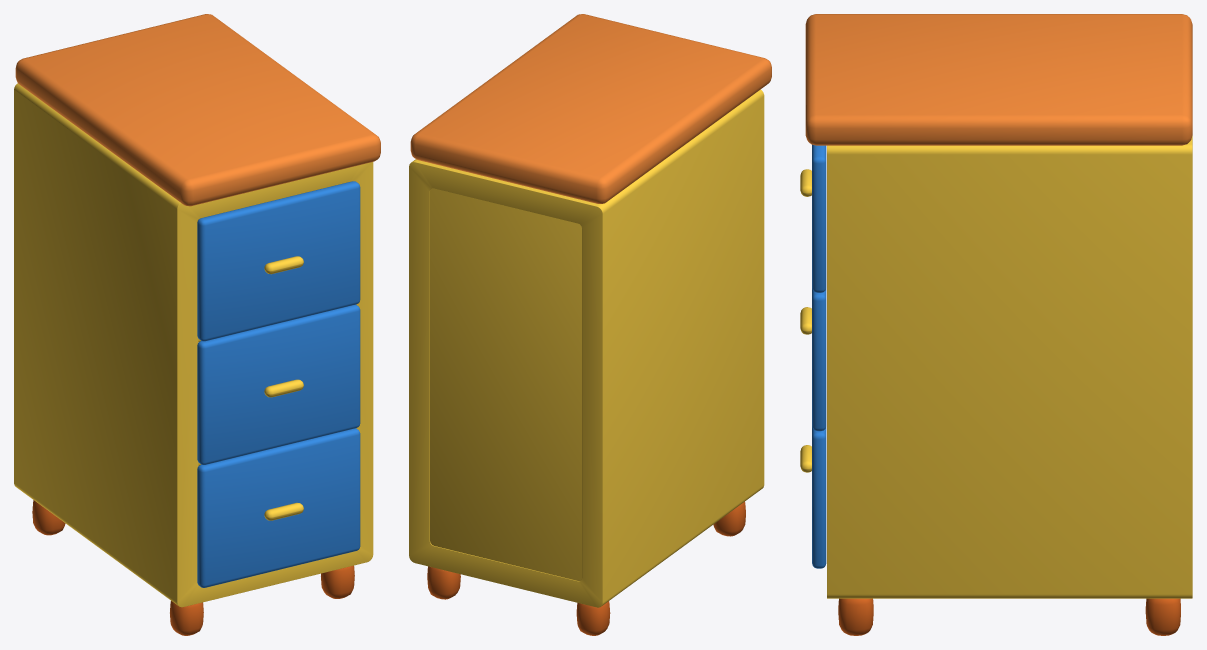
The model's file is gaveteiro_cozinha_3gavetas_moderna.glb.
The picture shows the model from 3 angles, left to right: view 1: azimuth 30°, elevation 25°; view 2: azimuth 150°, elevation 25°; view 3: azimuth 270°, elevation 25°; orthographic projection. The views are drawn at different scales.
Visible parts, largest first — view 1: gaveteiro_cozinha_3gavetas_moderna, gaveta_1, gaveta_2, gaveta_3; view 2: gaveteiro_cozinha_3gavetas_moderna; view 3: gaveteiro_cozinha_3gavetas_moderna, gaveta_1, gaveta_2, gaveta_3.
Boxes of the visible parts, x1,y1,x2,y2 form: gaveteiro_cozinha_3gavetas_moderna: (14, 14, 380, 635); gaveta_1: (197, 181, 360, 341); gaveta_2: (197, 304, 360, 464); gaveta_3: (197, 428, 360, 587); gaveteiro_cozinha_3gavetas_moderna: (409, 14, 771, 635); gaveteiro_cozinha_3gavetas_moderna: (805, 14, 1192, 635); gaveta_1: (800, 144, 826, 292); gaveta_2: (800, 288, 826, 431); gaveta_3: (800, 426, 826, 568).
Size of the model in its own units: 0.398 by 0.9 by 0.607.
1 material, 1 textured.
